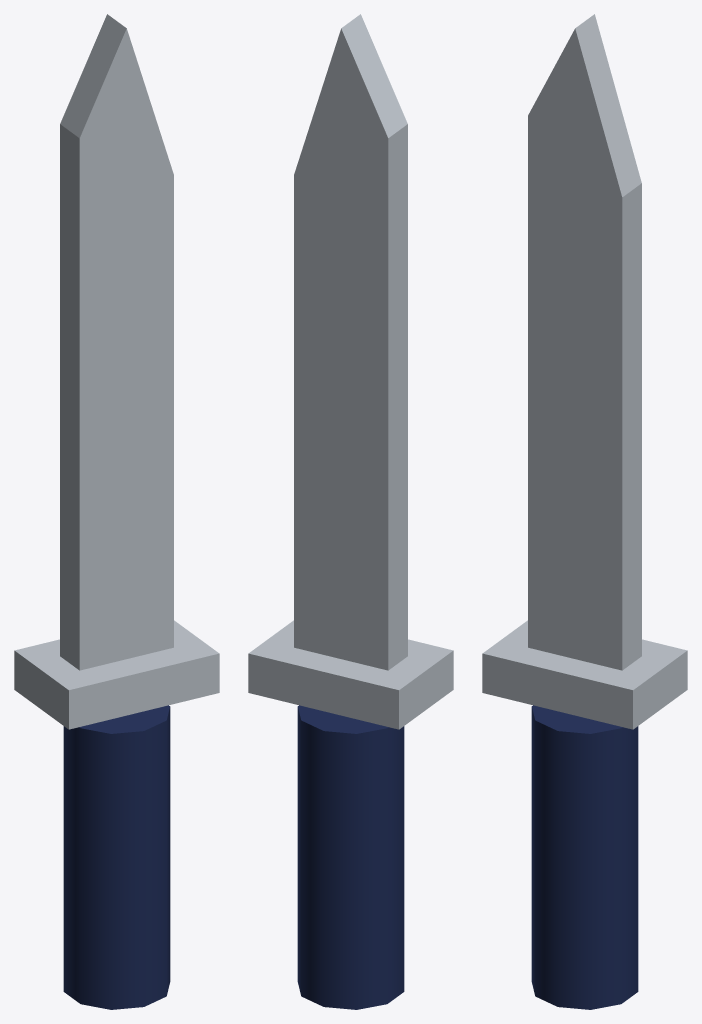
The model's file is soldier-bayonet.glb.
The picture shows the model from 3 angles, left to right: view 1: azimuth 30°, elevation 25°; view 2: azimuth 150°, elevation 25°; view 3: azimuth 330°, elevation 25°; orthographic projection.
Visible parts, largest first — view 1: Blade, Grip, Guard; view 2: Blade, Grip, Guard; view 3: Blade, Grip, Guard.
Part boxes in pixels (<box>): Blade: <box>60,14,173,670</box>; Grip: <box>63,705,170,1009</box>; Guard: <box>14,620,219,729</box>; Blade: <box>294,14,407,670</box>; Grip: <box>297,705,404,1009</box>; Guard: <box>248,620,453,729</box>; Blade: <box>528,14,641,670</box>; Grip: <box>531,705,638,1009</box>; Guard: <box>482,620,687,729</box>.
Bounding box in the file's own units: 0.08 × 0.49 × 0.05.
